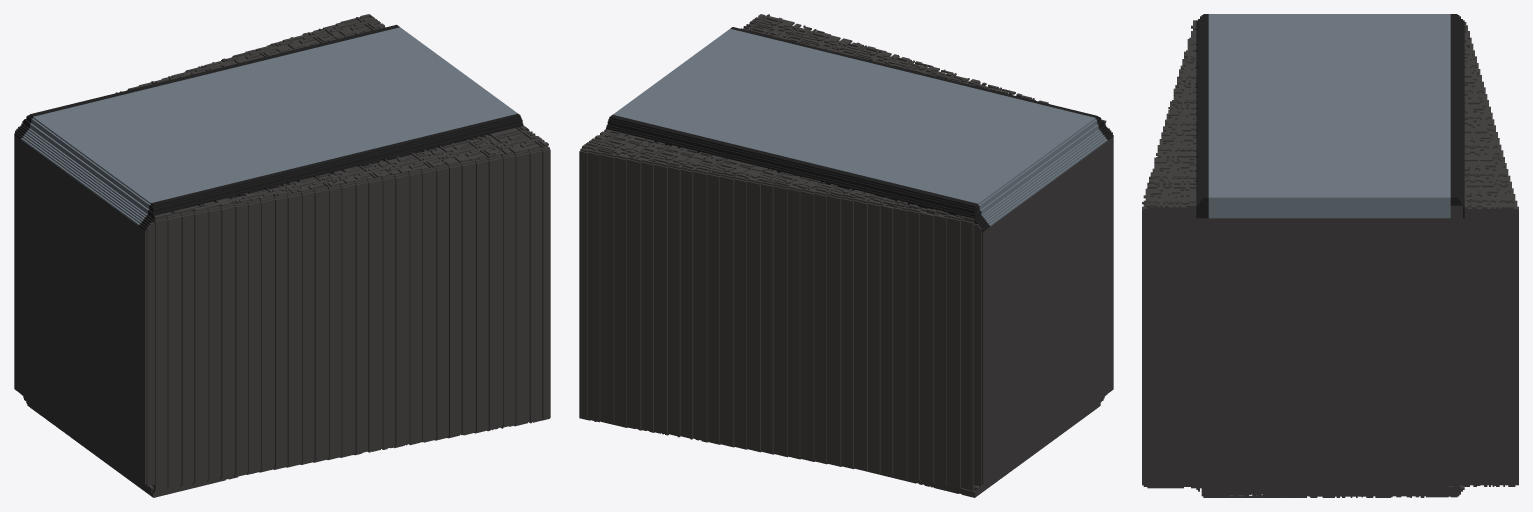
File: Space ship-13.obj
3 renders of one model, left to right at view 1: azimuth 30°, elevation 25°; view 2: azimuth 150°, elevation 25°; view 3: azimuth 270°, elevation 25°, orthographic. The views are drawn at different scales.
Size of the model in its own units: 25.6 by 18.9 by 21.5.
1 material, 1 textured.
